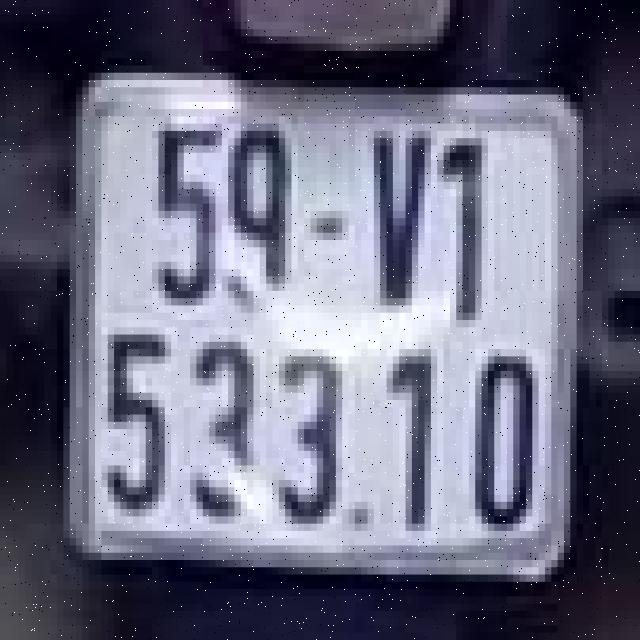0: (466, 345, 542, 542)
1: (437, 127, 501, 324), (384, 331, 441, 549)
3: (184, 327, 260, 531), (276, 334, 345, 531)
5: (95, 324, 171, 520), (146, 120, 222, 316)
9: (225, 116, 295, 320)
V: (368, 120, 437, 324)
